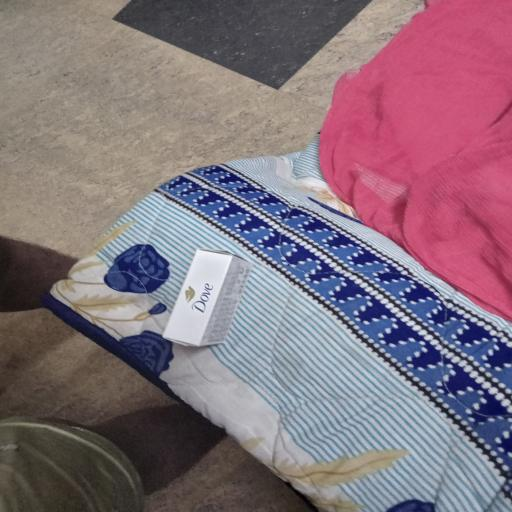Dove`1: (161, 245, 256, 362)
